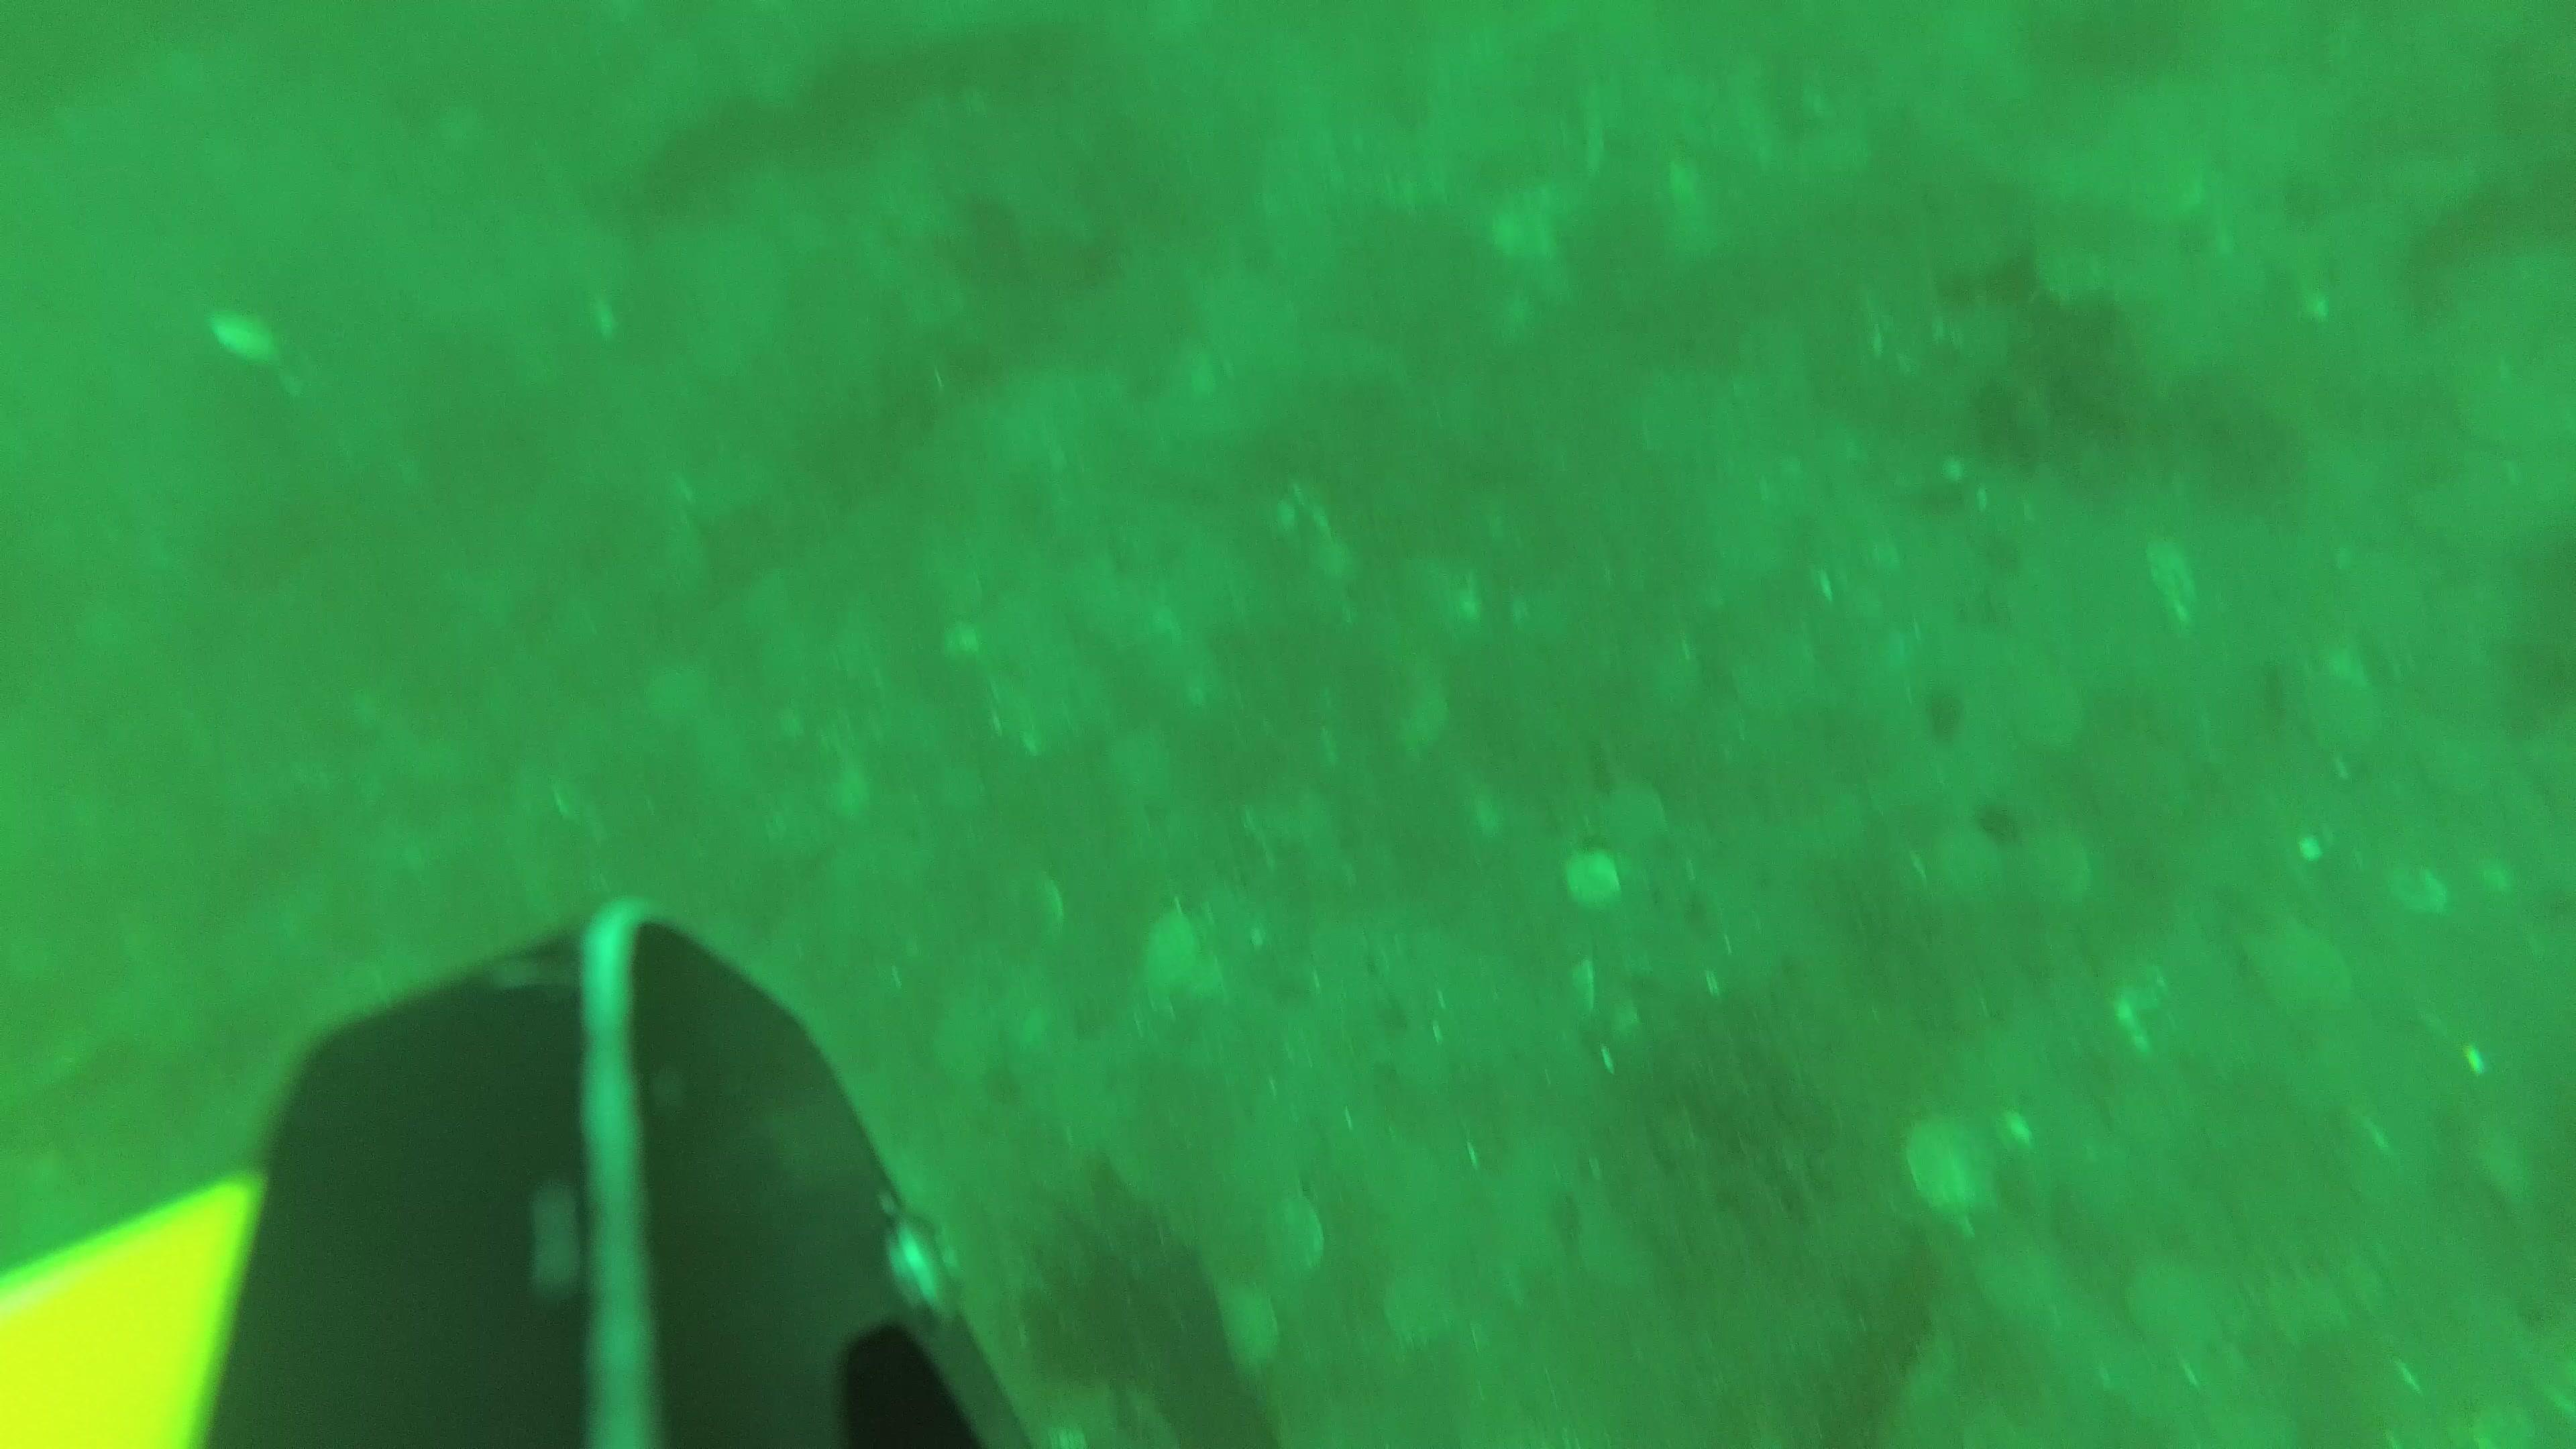scallop: (1895, 1102, 2010, 1217), (2247, 909, 2353, 1019), (2121, 1260, 2227, 1352), (1203, 1276, 1288, 1380), (2005, 665, 2098, 759), (1568, 1194, 1660, 1290), (2298, 658, 2381, 759), (1258, 1182, 1332, 1288), (1920, 816, 2005, 908), (2020, 826, 2095, 909), (1599, 771, 1672, 847), (1001, 869, 1072, 945), (1553, 849, 1633, 913), (202, 306, 283, 366)
